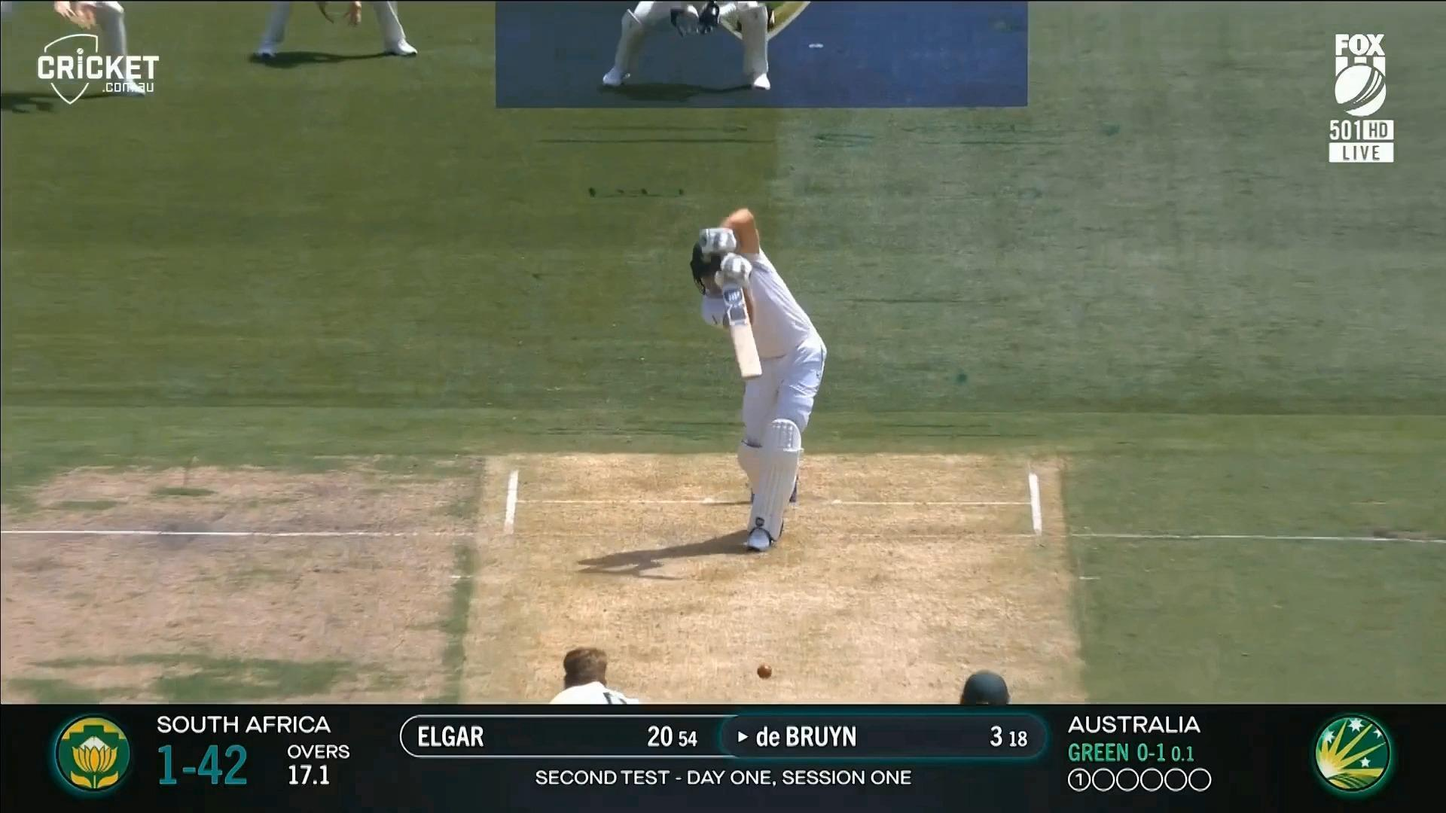BM 1: (689, 205, 827, 553)
BO: (550, 646, 641, 705)
